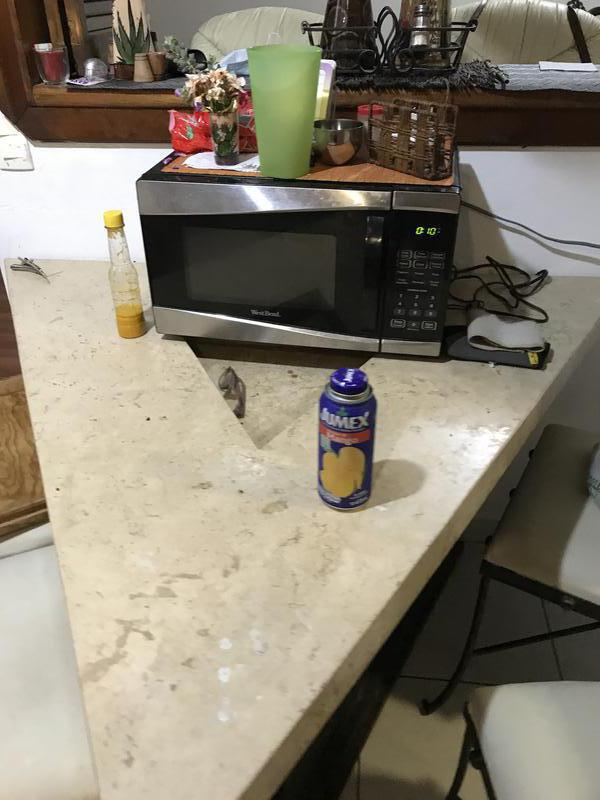jugo_jumex: (314, 367, 376, 508)
